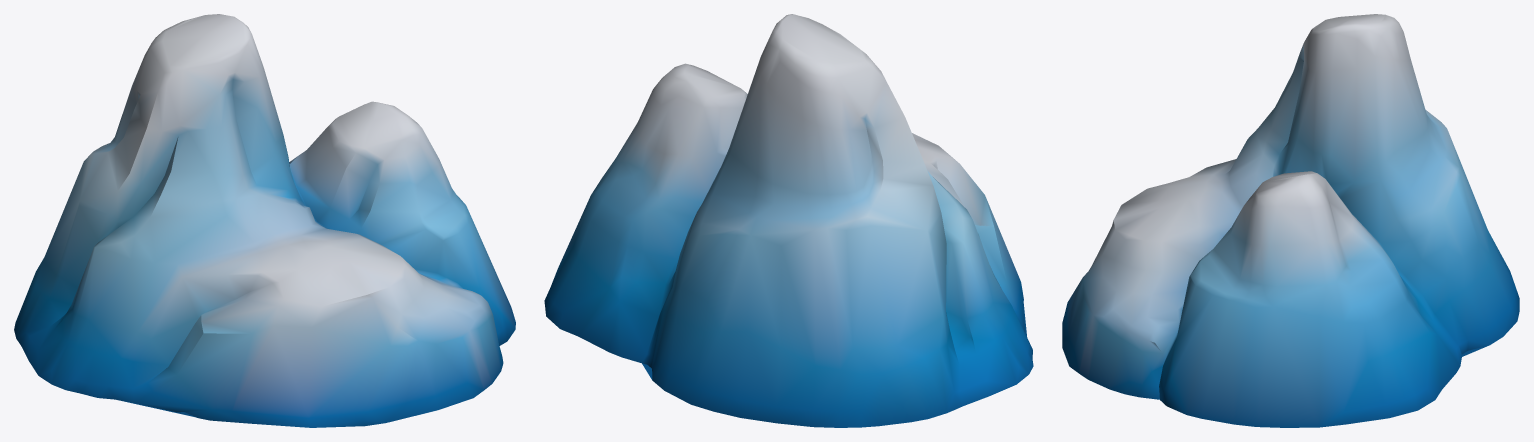
Rendered from env_props.glb.
The picture shows the model from 3 angles, left to right: view 1: azimuth 30°, elevation 25°; view 2: azimuth 150°, elevation 25°; view 3: azimuth 270°, elevation 25°; orthographic projection. The views are drawn at different scales.
Visible parts, largest first — view 1: p_iceberg; view 2: p_iceberg; view 3: p_iceberg.
Boxes of the visible parts, x1=… form: p_iceberg: x1=14, y1=14, x2=515, y2=427; p_iceberg: x1=544, y1=14, x2=1033, y2=427; p_iceberg: x1=1062, y1=14, x2=1519, y2=427.
Size of the model in its own units: 13.57 by 9 by 12.62.
